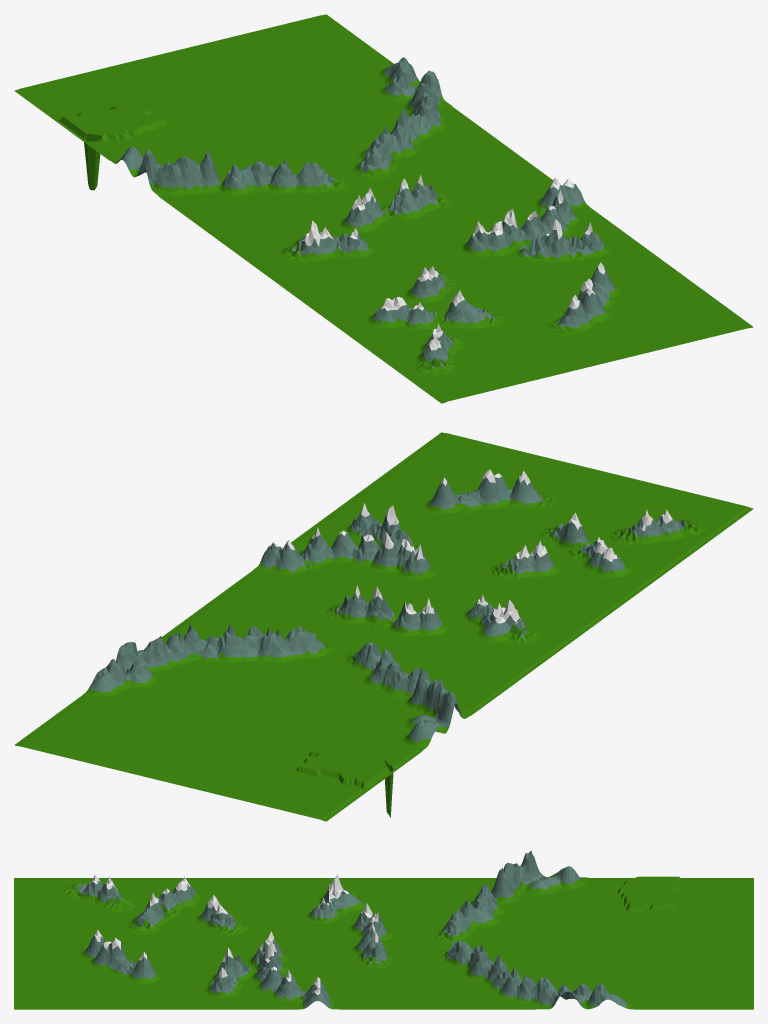
The model's file is background_menu.fbx.
3 renders of one model, top to bottom at view 1: azimuth 30°, elevation 25°; view 2: azimuth 150°, elevation 25°; view 3: azimuth 270°, elevation 25°, orthographic. The views are drawn at different scales.
Parts seen in each view (by area): view 1: Plane; view 2: Plane; view 3: Plane.
Part boxes in pixels (x1=…): Plane: x1=14, y1=14, x2=753, y2=403; Plane: x1=14, y1=432, x2=753, y2=821; Plane: x1=14, y1=850, x2=753, y2=1009.
Size of the model in its own units: 23683 by 6185 by 56137.
